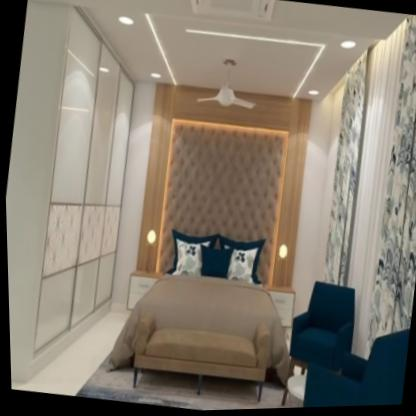Bed: (115, 208, 304, 401)
Closet: (12, 0, 156, 376)
Wall Panel: (126, 77, 317, 295)
